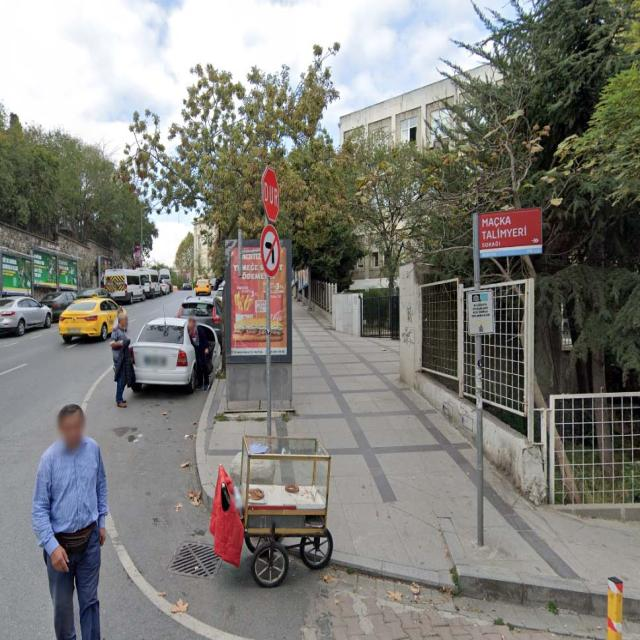dur: (262, 166, 280, 222)
soladonulmez: (260, 225, 280, 275)
